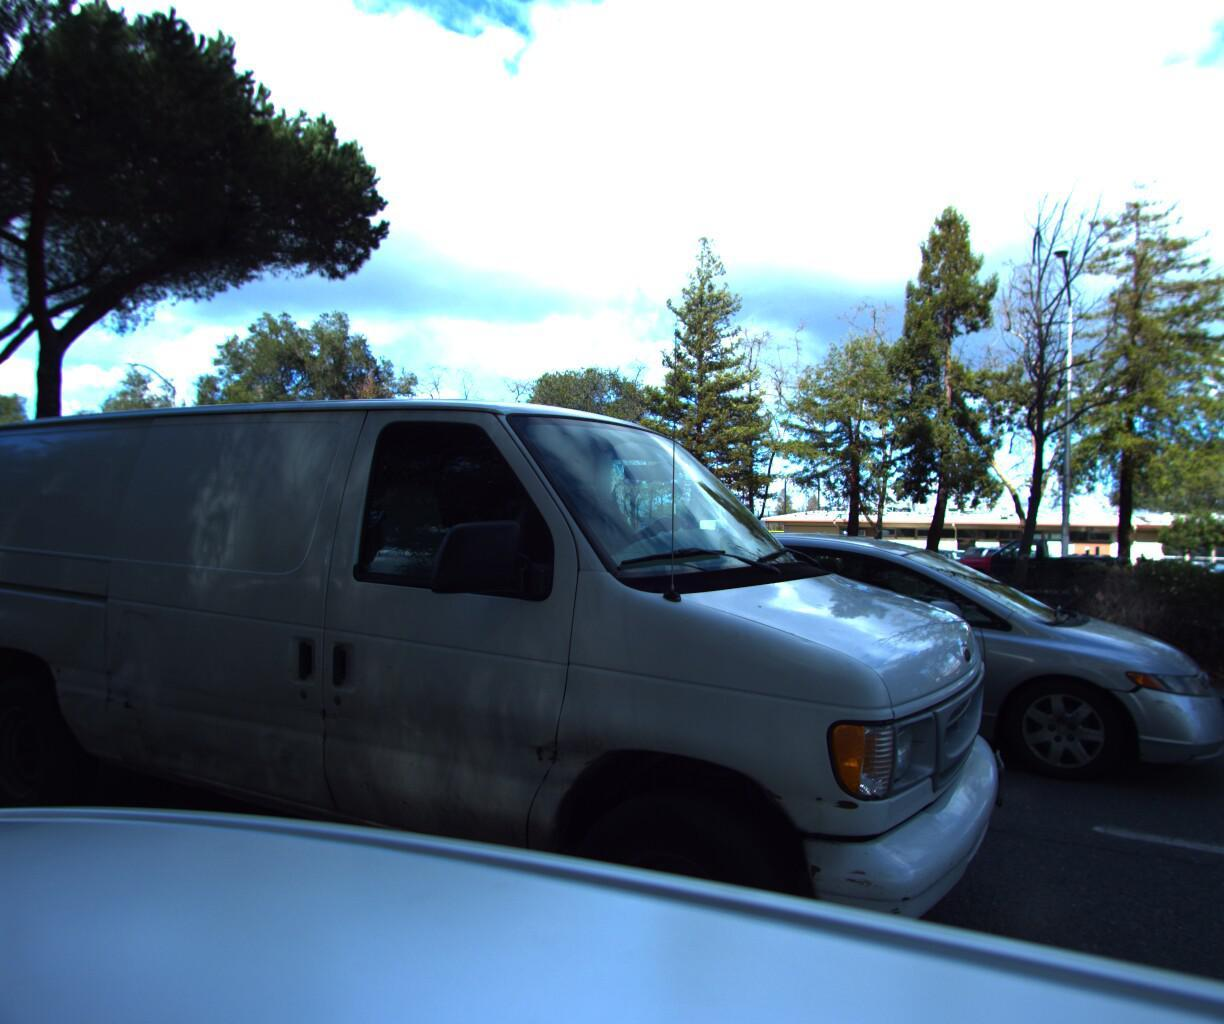car: (0, 252, 1066, 1024), (603, 525, 1224, 835), (937, 539, 1136, 612)
